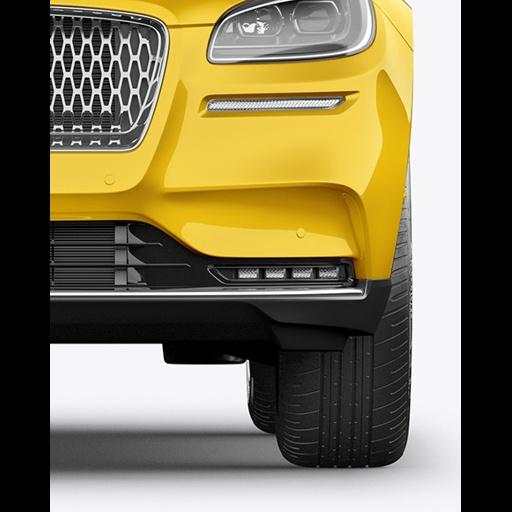suv: (50, 0, 412, 466)
